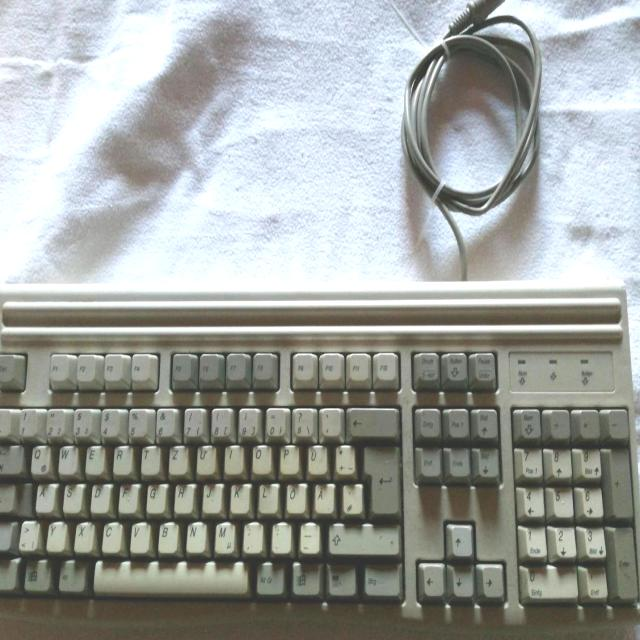0: (264, 404, 287, 437)
1: (18, 405, 42, 437)
2: (45, 405, 69, 438)
3: (71, 405, 97, 439)
4: (99, 405, 122, 437)
5: (127, 405, 149, 438)
6: (154, 404, 176, 437)
7: (182, 405, 205, 437)
8: (209, 405, 232, 438)
9: (237, 404, 259, 437)
a: (34, 481, 54, 511)
accent: (318, 405, 341, 436)
ae: (312, 480, 334, 512)
alt-left: (56, 557, 86, 591)
altgr-right: (254, 559, 283, 593)
b: (156, 519, 177, 552)
c: (100, 519, 121, 552)
caret: (1, 407, 11, 438)
comma: (240, 519, 262, 553)
d: (89, 481, 110, 512)
del: (345, 404, 397, 436)
e: (84, 443, 104, 473)
enter: (362, 443, 398, 513)
f: (117, 481, 137, 511)
g: (145, 481, 165, 512)
h: (172, 480, 193, 512)
hash: (340, 480, 362, 513)
i: (222, 442, 242, 472)
j: (200, 480, 221, 512)
k: (228, 480, 249, 512)
keyboard: (0, 275, 640, 629)
l: (257, 480, 277, 512)
less: (17, 517, 39, 551)
m: (212, 519, 234, 553)
minus: (297, 520, 319, 552)
n: (184, 518, 205, 552)
o: (250, 442, 271, 472)
oe: (284, 480, 306, 512)
p: (278, 442, 298, 472)
plus: (332, 442, 354, 474)
point: (269, 520, 290, 552)
q: (29, 442, 49, 474)
r: (111, 442, 131, 473)
s: (61, 481, 82, 512)
shift-left: (0, 520, 12, 550)
shift-lock: (0, 482, 14, 510)
shift-right: (326, 520, 400, 553)
space: (89, 557, 249, 595)
ss: (290, 404, 314, 437)
strg-left: (0, 556, 17, 589)
strg-right: (361, 562, 400, 596)
t: (139, 443, 159, 474)
tab: (0, 441, 22, 473)
u: (195, 442, 215, 474)
ue: (306, 442, 326, 474)
v: (128, 519, 150, 552)
w: (57, 442, 77, 473)
x: (72, 519, 94, 551)
y: (45, 518, 65, 550)
z: (167, 442, 187, 473)
